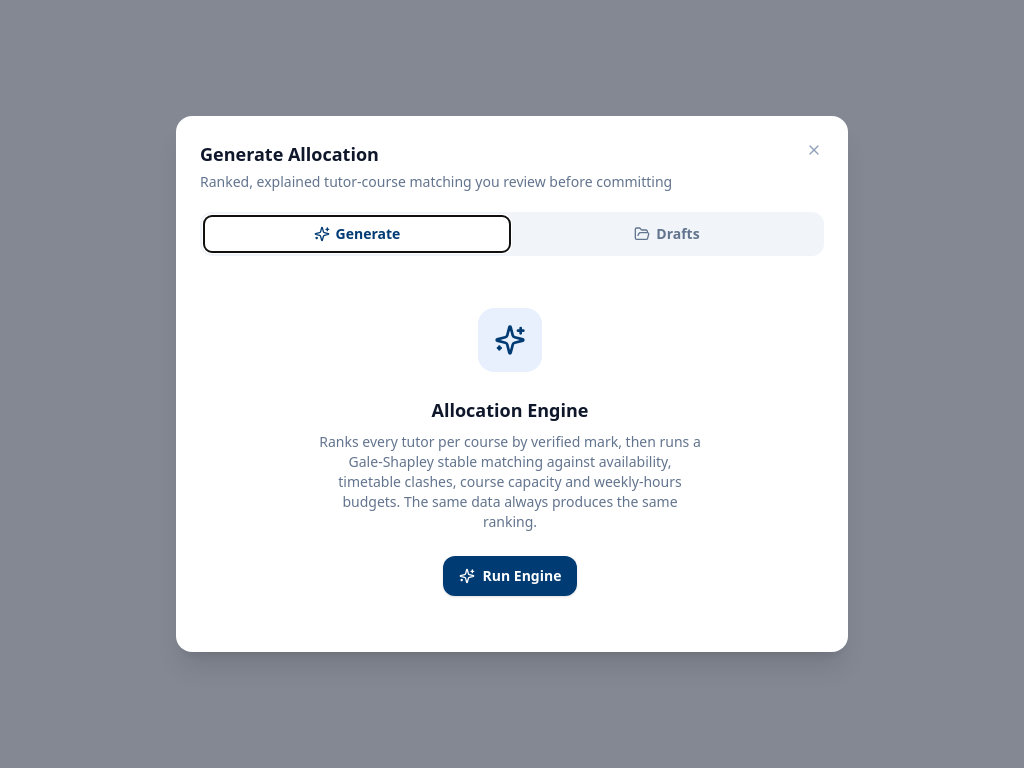
it: GenerateAllocationModal preview › explains a ranking with the engine reasons in the Why? popover
Click the button "Run Engine".
click(510, 576)  # box [442,556,577,596]
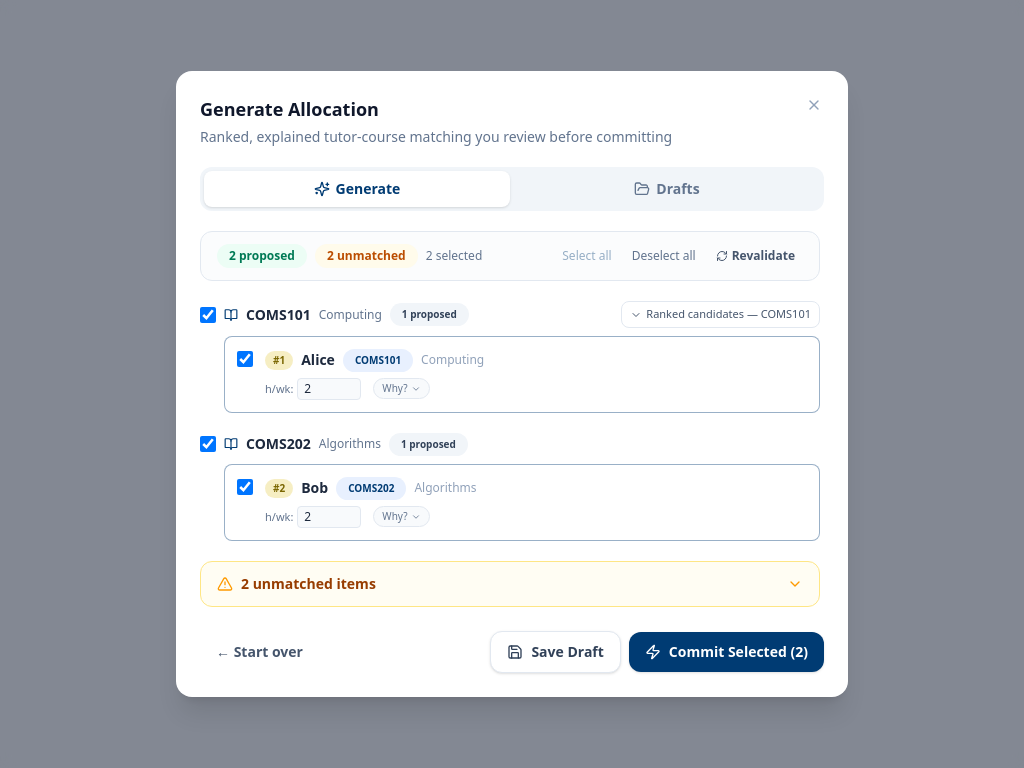
Expected: the text "2 proposed" is shown, [217,244,307,268]
Click the button "Why?" below "Alice".
click(402, 389)  # box [373,378,430,399]
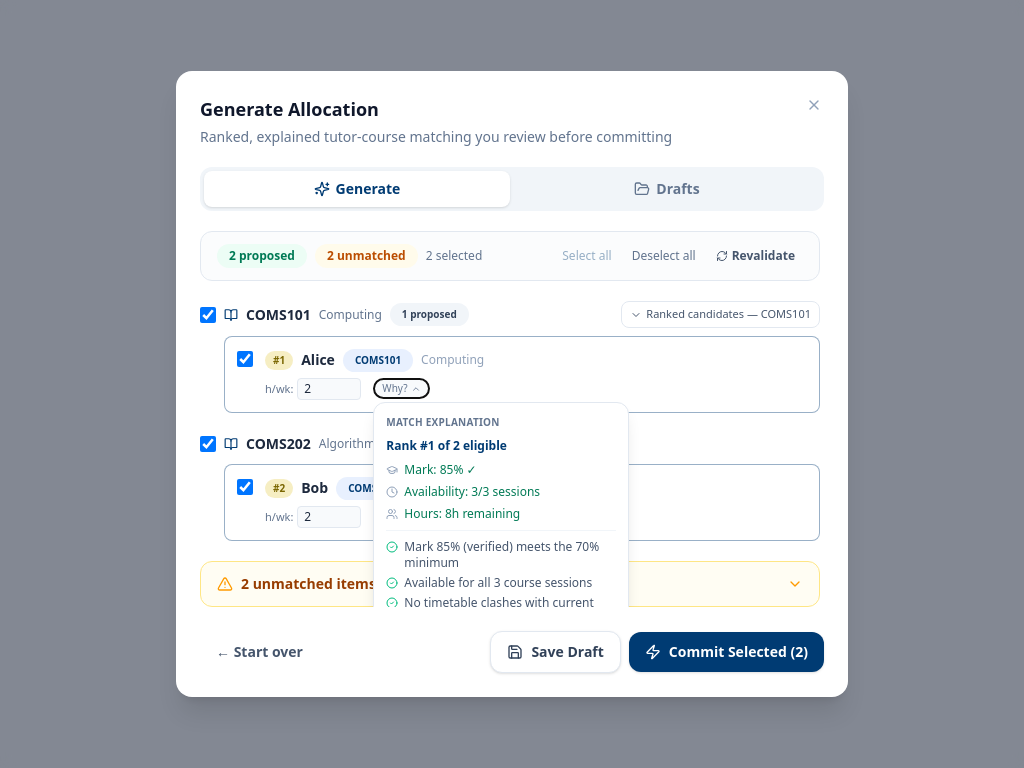
Expected: the text "Rank #1 of 2 eligible" is shown, [386,437,507,454]
Expected: the text "Mark 85% (verified) meets the 70% minimum" is shown, [404,539,616,571]
